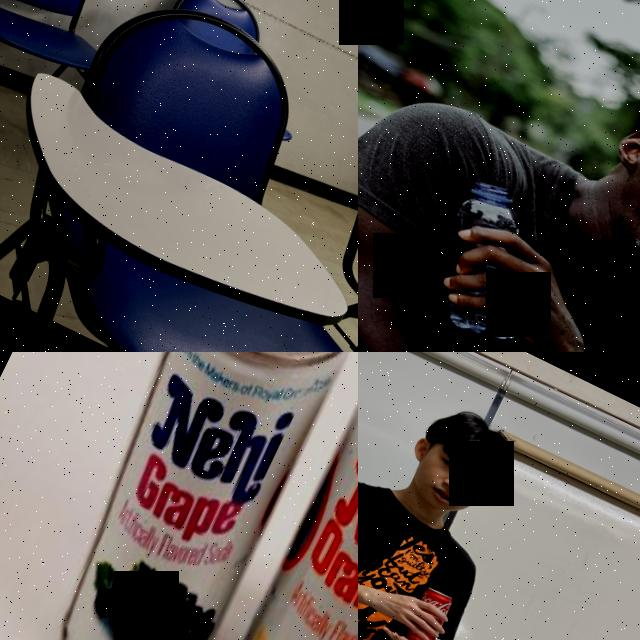bottle: (411, 174, 577, 352)
can: (4, 352, 358, 640), (186, 352, 358, 640), (400, 584, 457, 640)
